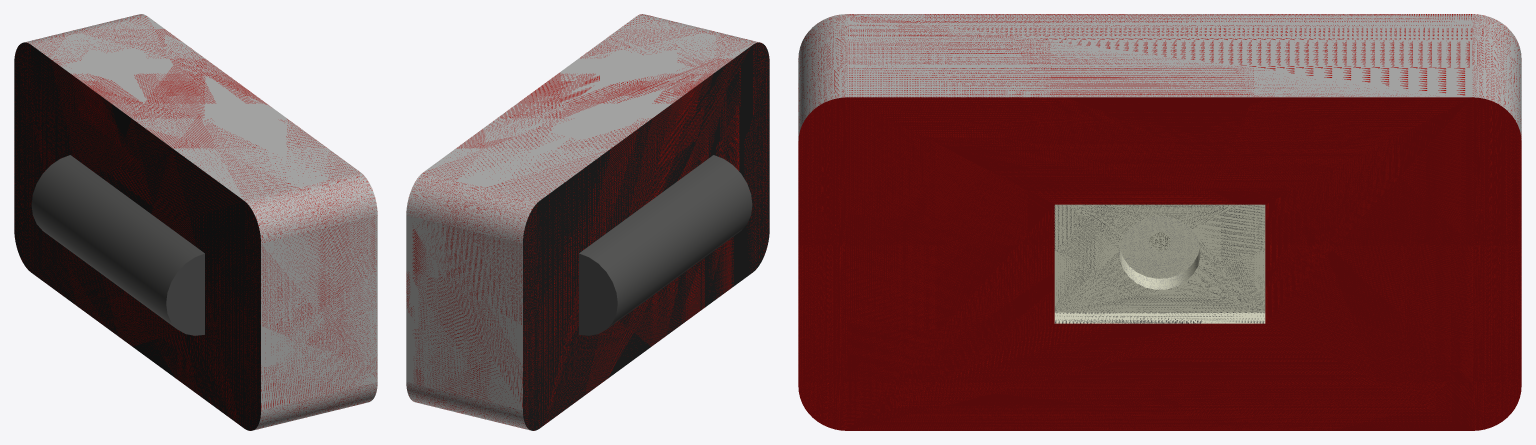
File: camera.dae
The picture shows the model from 3 angles, left to right: view 1: azimuth 30°, elevation 25°; view 2: azimuth 150°, elevation 25°; view 3: azimuth 270°, elevation 25°; orthographic projection. The views are drawn at different scales.
Parts seen in each view (by area): view 1: camera (×2), webcam; view 2: camera (×2), webcam; view 3: camera (×5).
Part boxes in pixels (bbox=[...]): camera (×2): bbox=[14, 14, 377, 430]; webcam: bbox=[31, 155, 204, 335]; camera (×2): bbox=[406, 14, 769, 430]; webcam: bbox=[579, 155, 752, 335]; camera (×5): bbox=[798, 14, 1521, 430].
Size of the model in its own units: 0.7874 by 2.17 by 1.1.
